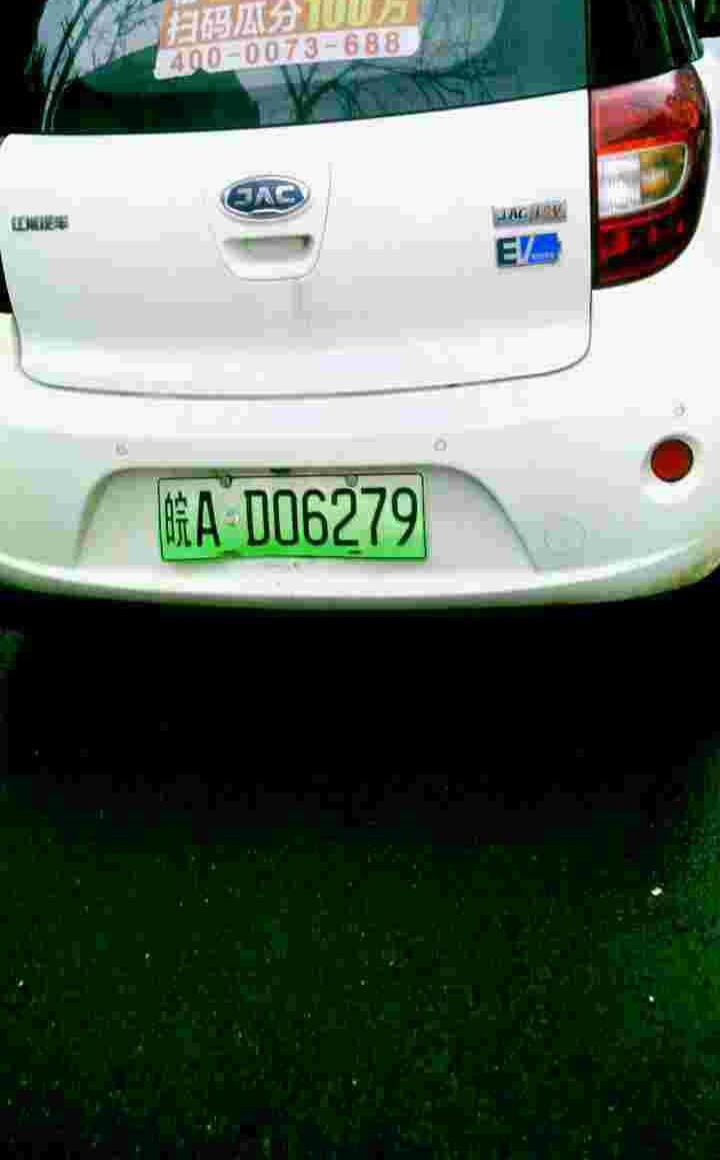car: (143, 463, 432, 569)
